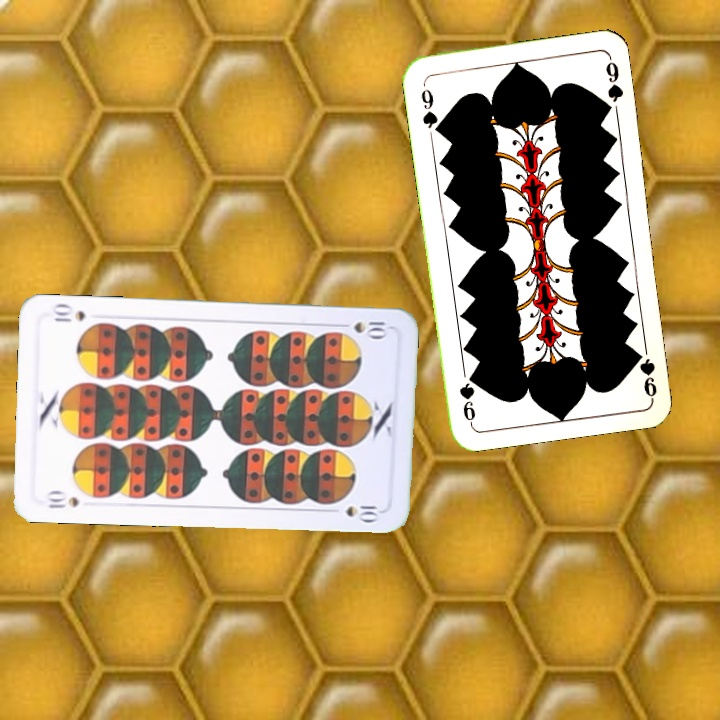G9: (633, 348, 660, 401), (417, 85, 443, 137)
S10: (41, 487, 82, 511), (349, 317, 392, 339)
